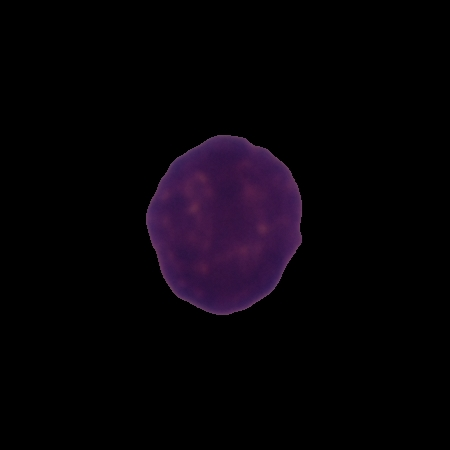HEM: (142, 131, 307, 318)
